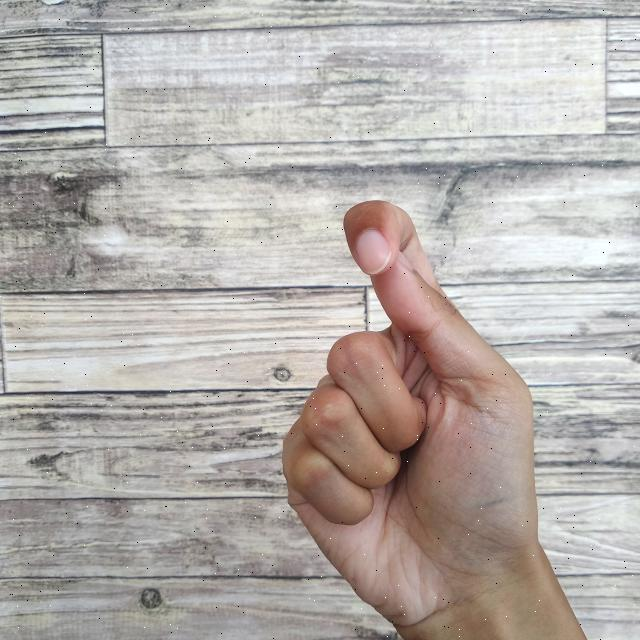T: (279, 195, 591, 640)
